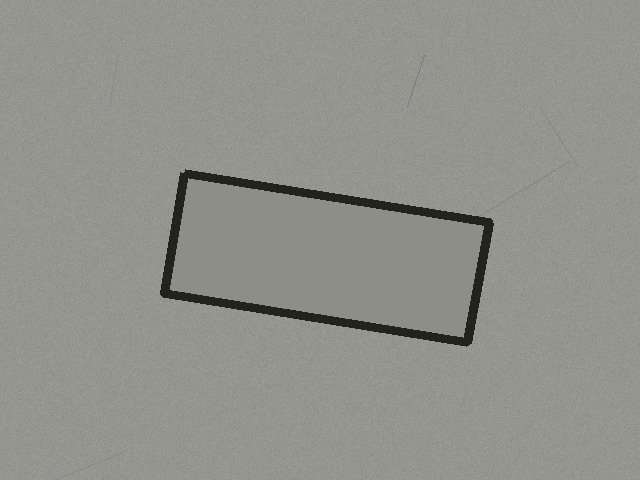parking_area: (164, 173, 489, 342)
